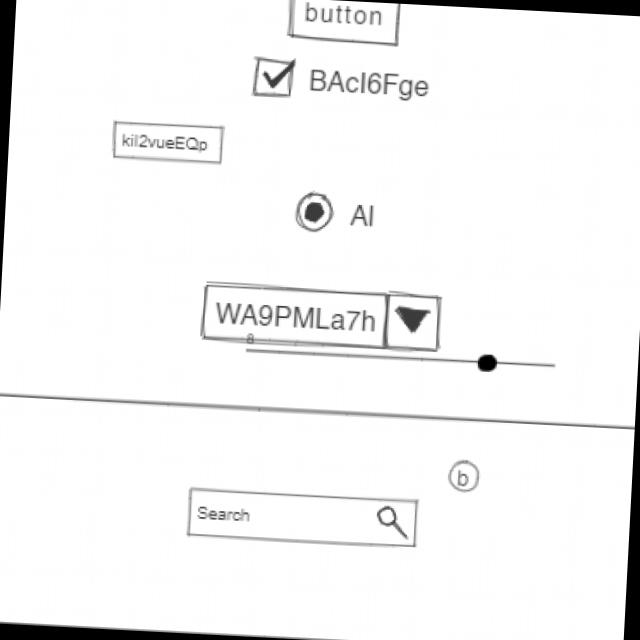button: (283, 1, 406, 48)
checkbox: (250, 53, 435, 114)
container: (1, 388, 636, 640)
icon-button: (446, 459, 485, 497)
input: (109, 119, 231, 168)
radio: (290, 189, 380, 239)
search: (184, 487, 422, 553)
select: (199, 278, 449, 357)
slider: (258, 344, 561, 378)
